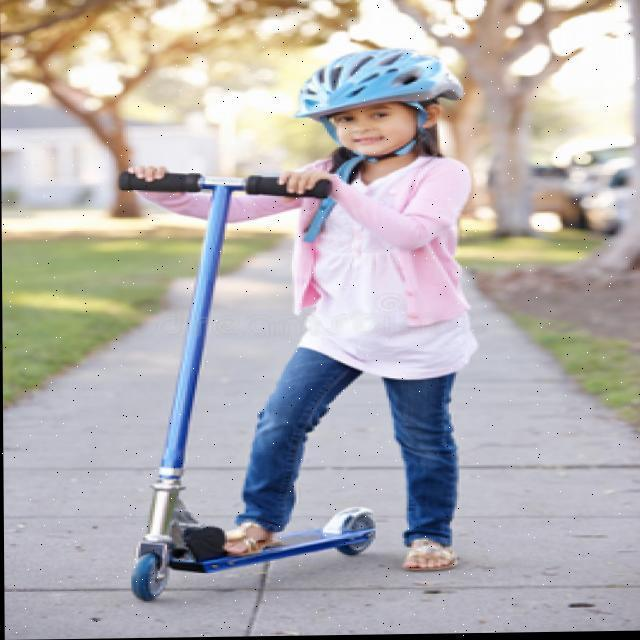Helmet: (288, 47, 470, 166)
